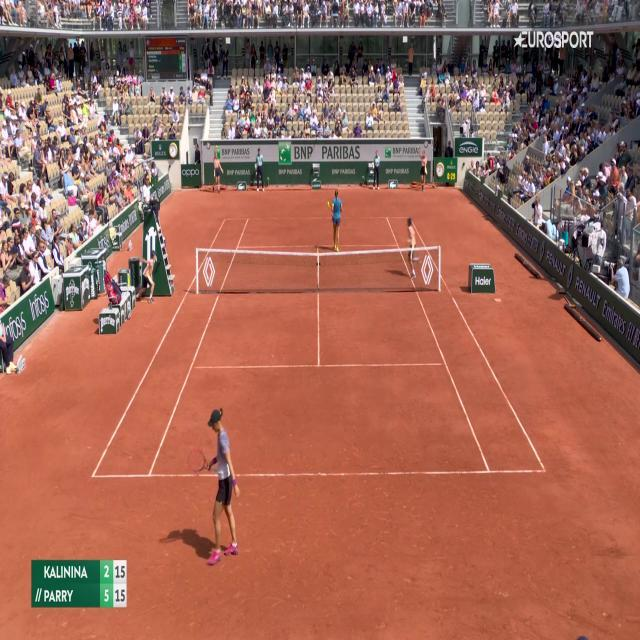left side: (387, 217, 545, 472), (93, 219, 248, 476)
player: (198, 406, 238, 566), (327, 188, 342, 252)
